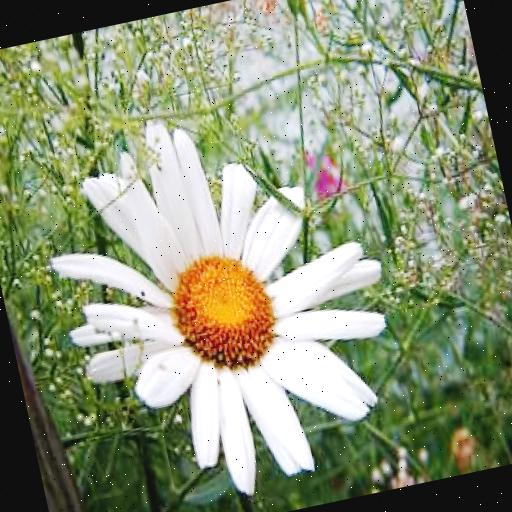daisy: (60, 134, 374, 500)
